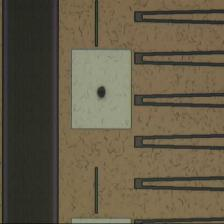PARTICLE: (95, 85, 111, 101)
